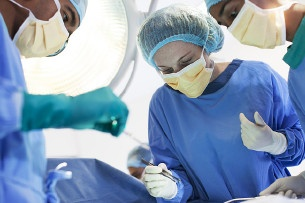Mask: (156, 48, 206, 98)
